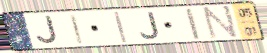I: (183, 7, 203, 41), (112, 11, 130, 44), (68, 14, 85, 46)
J: (34, 15, 60, 46), (139, 11, 162, 41)
N: (202, 4, 240, 41)
